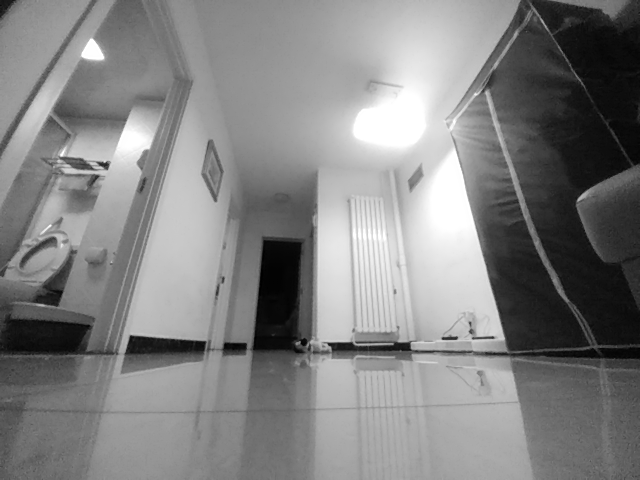toy: (293, 337, 333, 355)
